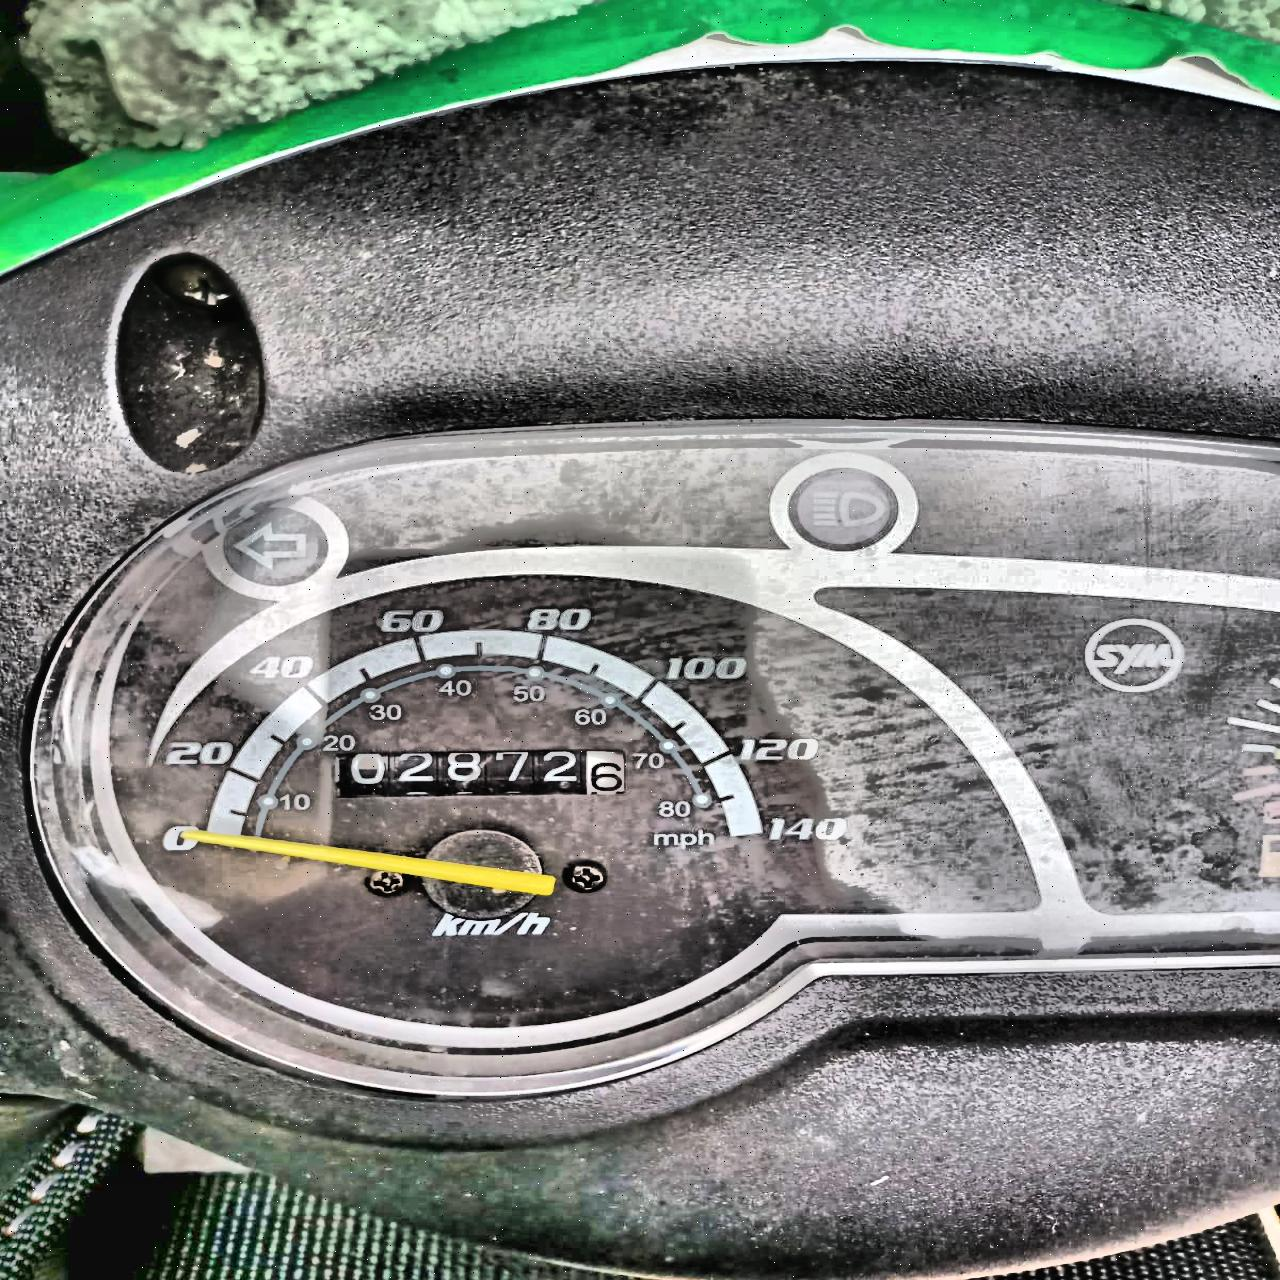0: (348, 749, 386, 784)
2: (395, 747, 436, 784), (539, 748, 579, 785)
6: (587, 757, 625, 791)
7: (491, 748, 529, 783)
8: (444, 751, 484, 783)
odometer: (331, 747, 631, 799)
